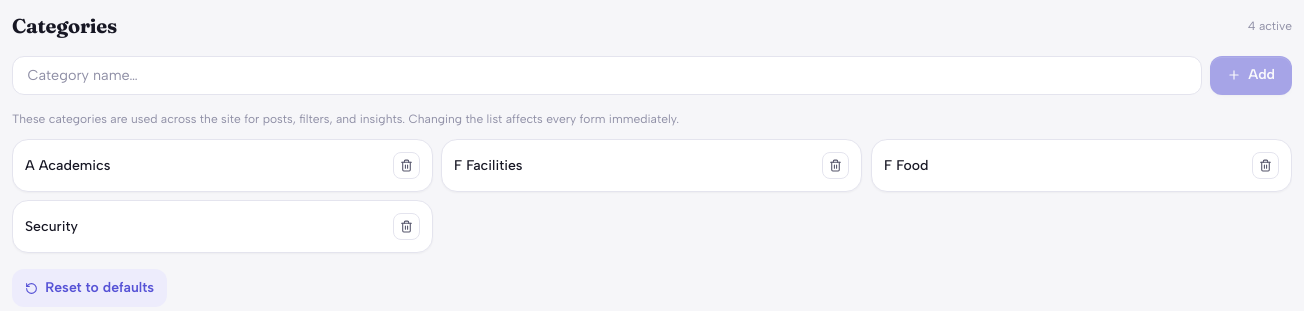
it: Admin Categories › adds a category and persists via PUT
Expected: the text "A Academics" is shown, [25,155,110,175]
In the field with placeholder "Category name…": coordinates (607, 75) [12,56,1202,94], type "NewCat"
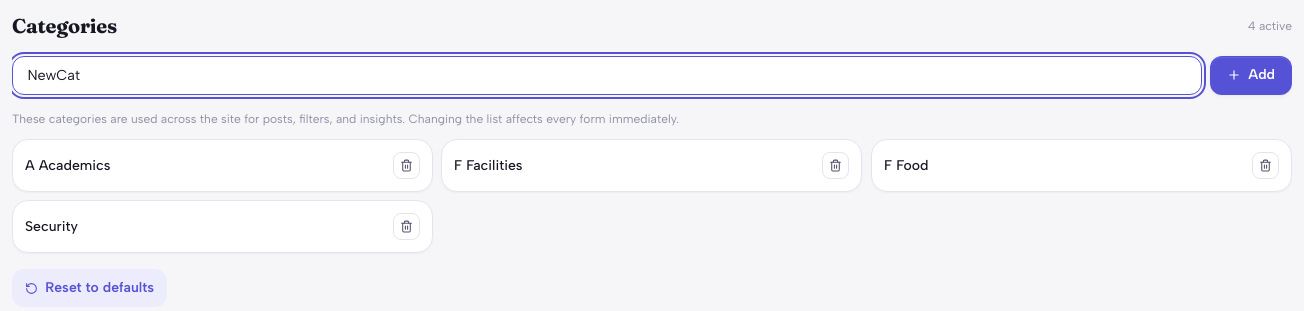
Click the button "Add": coordinates (1251, 75) [1210,56,1292,94]
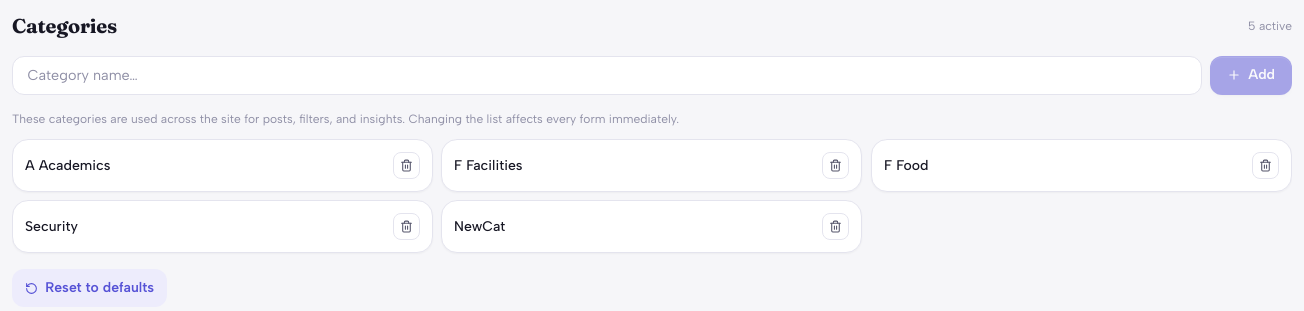
Expected: the text "NewCat" is shown, [454,216,506,236]
